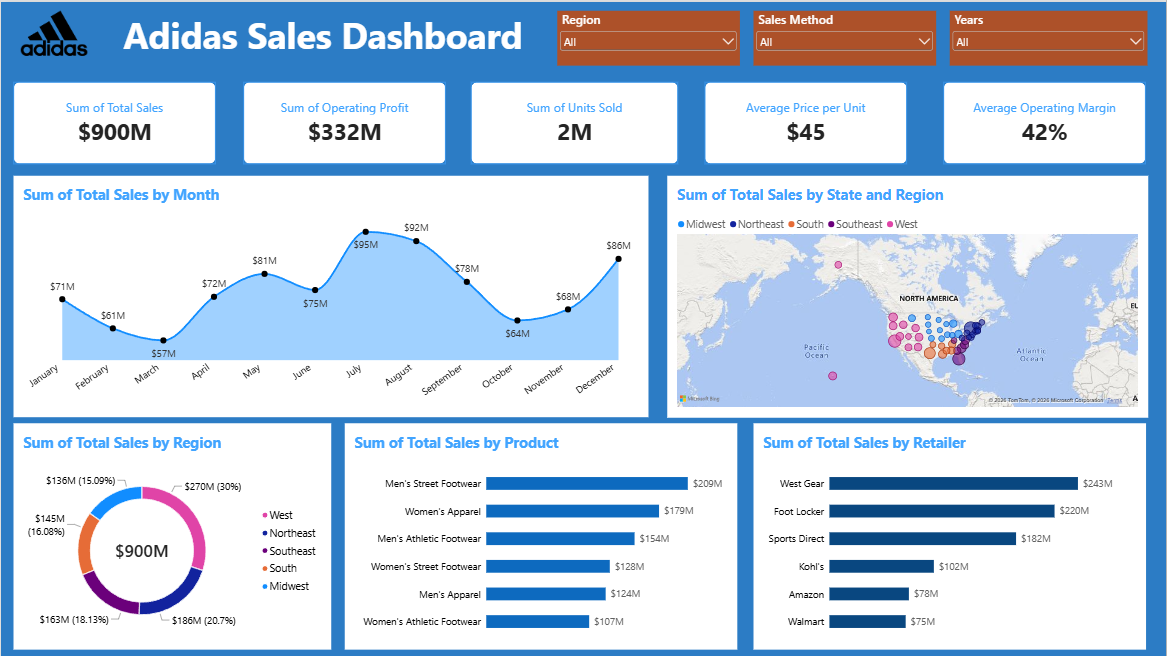

Layout of this report page (visuals, bound fields, positions):
{"tool":"powerbi","page":{"name":"Page 1","canvas":[1920,1080],"ordinal":0},"visuals":[{"type":"cardVisual","fields":{"Data":["Data Sales Adidas.Sum of Total Sales"]},"box":[20.6,131.7,333.4,135.8],"z":0},{"type":"cardVisual","fields":{"Data":["Data Sales Adidas.Sum of Operating Profit"]},"box":[399.3,131.7,333.4,135.8],"z":1000},{"type":"cardVisual","fields":{"Data":["Data Sales Adidas.Sum of Units Sold"]},"box":[773.9,131.7,341.7,135.8],"z":2000},{"type":"cardVisual","fields":{"Data":["Data Sales Adidas.Average Price per Unit"]},"box":[1158.8,131.7,333.4,135.8],"z":3000},{"type":"cardVisual","fields":{"Data":["Data Sales Adidas.Average Operating Margin"]},"box":[1552,131.7,333.4,135.8],"z":4000},{"type":"areaChart","title":"Sum of Total Sales by Month","fields":{"Category":["DimDate.Bulan"],"Y":["Data Sales Adidas.Sum of Total Sales"]},"box":[20.6,286.1,1045.6,397.3],"z":5000},{"type":"map","fields":{"Category":["Data Sales Adidas.State"],"Series":["Data Sales Adidas.Region"],"Size":["Data Sales Adidas.Sum of Total Sales"]},"box":[1097.1,286.1,790.4,397.3],"z":6000},{"type":"donutChart","fields":{"Category":["Data Sales Adidas.Region"],"Y":["Data Sales Adidas.Sum of Total Sales"]},"box":[20.6,693.7,522.8,372.6],"z":7000},{"type":"clusteredBarChart","fields":{"Category":["Data Sales Adidas.Product"],"Y":["Data Sales Adidas.Sum of Total Sales"]},"box":[566,693.7,646.3,372.6],"z":8000},{"type":"clusteredBarChart","fields":{"Category":["Data Sales Adidas.Retailer"],"Y":["Data Sales Adidas.Sum of Total Sales"]},"box":[1239.1,693.7,646.3,372.6],"z":9000},{"type":"slicer","fields":{"Values":["Data Sales Adidas.Region"]},"box":[916,14.4,300.5,90.6],"z":10000},{"type":"slicer","fields":{"Values":["DimDate.Tahun"]},"box":[1562.3,14.4,325.2,90.6],"z":11000},{"type":"slicer","fields":{"Values":["Data Sales Adidas.Sales Method"]},"box":[1239.1,14.4,300.5,90.6],"z":12000},{"type":"textbox","box":[170.8,14.4,718.4,90.6],"z":13000},{"type":"image","box":[20.6,14.4,133.8,74.1],"z":14000}]}

Visuals, with their boxes in screenshot pixels (x1, y1, x2, y2), scaled from the page's 1920x1080 canvas onto the 1167x656 screenshot:
cardVisual - Data Sales Adidas.Sum of Total Sales: [left=13, top=80, right=215, bottom=162]
cardVisual - Data Sales Adidas.Sum of Operating Profit: [left=243, top=80, right=445, bottom=162]
cardVisual - Data Sales Adidas.Sum of Units Sold: [left=470, top=80, right=678, bottom=162]
cardVisual - Data Sales Adidas.Average Price per Unit: [left=704, top=80, right=907, bottom=162]
cardVisual - Data Sales Adidas.Average Operating Margin: [left=943, top=80, right=1146, bottom=162]
"Sum of Total Sales by Month" areaChart: [left=13, top=174, right=648, bottom=415]
map - Data Sales Adidas.State x Data Sales Adidas.Region: [left=667, top=174, right=1147, bottom=415]
donutChart - Data Sales Adidas.Region x Data Sales Adidas.Sum of Total Sales: [left=13, top=421, right=330, bottom=648]
clusteredBarChart - Data Sales Adidas.Product x Data Sales Adidas.Sum of Total Sales: [left=344, top=421, right=737, bottom=648]
clusteredBarChart - Data Sales Adidas.Retailer x Data Sales Adidas.Sum of Total Sales: [left=753, top=421, right=1146, bottom=648]
slicer - Data Sales Adidas.Region: [left=557, top=9, right=739, bottom=64]
slicer - DimDate.Tahun: [left=950, top=9, right=1147, bottom=64]
slicer - Data Sales Adidas.Sales Method: [left=753, top=9, right=936, bottom=64]
textbox: [left=104, top=9, right=540, bottom=64]
image: [left=13, top=9, right=94, bottom=54]
